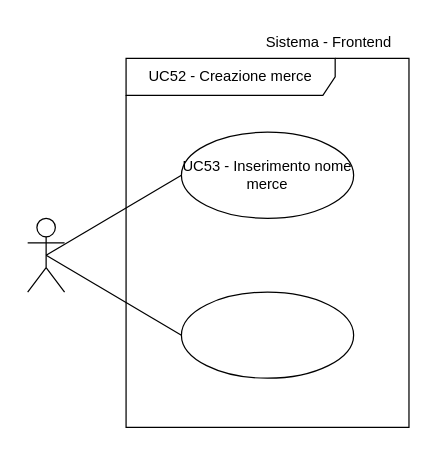
Some shapes in this 431 by 449 pixel diagram are drawn without their labels. The centre of each missing label's shape, as x and y in pixels:
Admin Globale: the point at 45,254
UC54 - Inserimento descrizione merce: the point at 267,334
